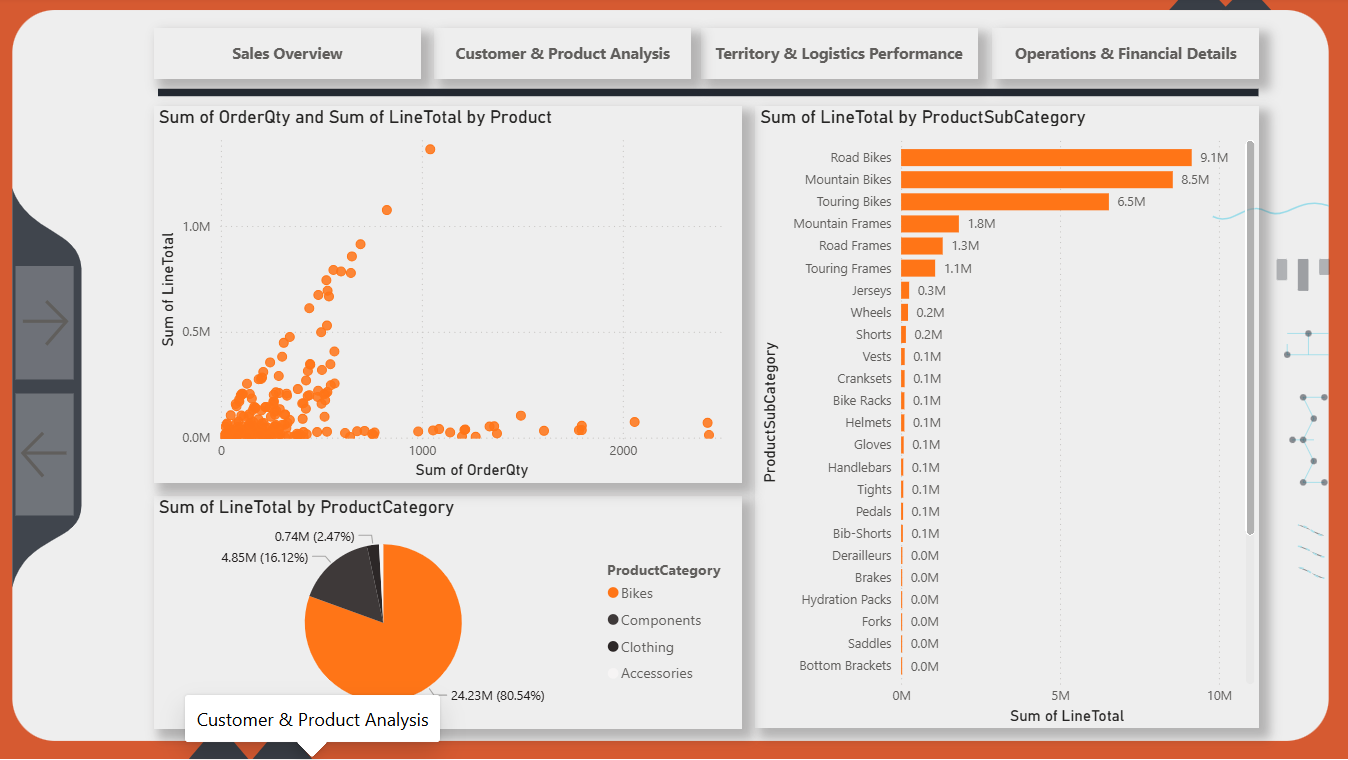

What the dashboard file says about the page in this screenshot:
{"tool":"powerbi","page":{"name":"Customer & Product Analysis","canvas":[1280,720],"ordinal":1},"visuals":[{"type":"scatterChart","fields":{"Category":["Fact Sales.Product"],"X":["Sum(Fact Sales.OrderQty)"],"Y":["Sum(Fact Sales.LineTotal)"]},"box":[153.2,103.2,553.2,354.8],"z":0},{"type":"pieChart","fields":{"Category":["Fact Sales.ProductCategory"],"Y":["Sum(Fact Sales.LineTotal)"]},"box":[153.2,469.4,553.2,219.4],"z":1000},{"type":"clusteredBarChart","fields":{"Category":["Fact Sales.ProductSubCategory"],"Y":["Sum(Fact Sales.LineTotal)"]},"box":[719.4,103.2,474.2,585.5],"z":2000},{"type":"actionButton","box":[153.2,29,251.6,48.4],"z":3000},{"type":"actionButton","box":[417.7,29,241.9,48.4],"z":4000},{"type":"actionButton","box":[667.7,29,259.7,48.4],"z":5000},{"type":"actionButton","box":[941.9,29,251.6,48.4],"z":6000},{"type":"actionButton","box":[24.2,253.2,54.8,106.5],"z":7000},{"type":"actionButton","box":[24.2,374.2,54.8,114.5],"z":8000}]}

Visuals, with their boxes in screenshot pixels (x1, y1, x2, y2), scaled from the page's 1280x720 canvas onto the 1348x760 screenshot:
scatterChart - Fact Sales.Product x Sum(Fact Sales.OrderQty): locate(161, 109, 744, 483)
pieChart - Fact Sales.ProductCategory x Sum(Fact Sales.LineTotal): locate(161, 495, 744, 727)
clusteredBarChart - Fact Sales.ProductSubCategory x Sum(Fact Sales.LineTotal): locate(758, 109, 1257, 727)
actionButton: locate(161, 31, 426, 82)
actionButton: locate(440, 31, 695, 82)
actionButton: locate(703, 31, 977, 82)
actionButton: locate(992, 31, 1257, 82)
actionButton: locate(25, 267, 83, 380)
actionButton: locate(25, 395, 83, 516)
